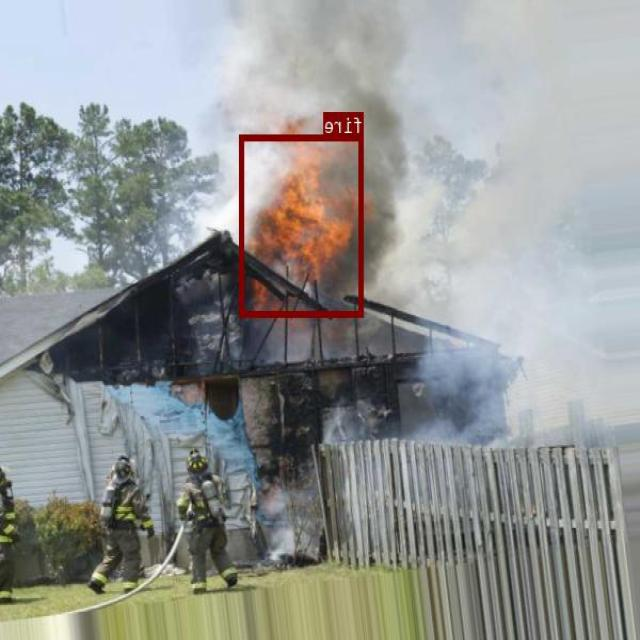fire: (241, 134, 364, 315)
